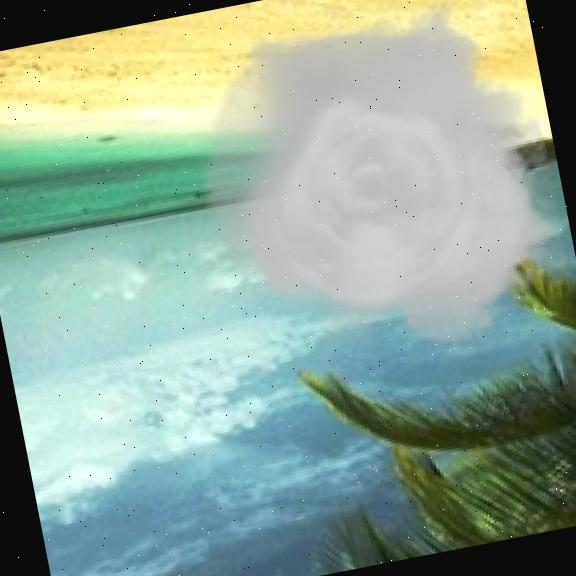smoke: (172, 0, 576, 396)
